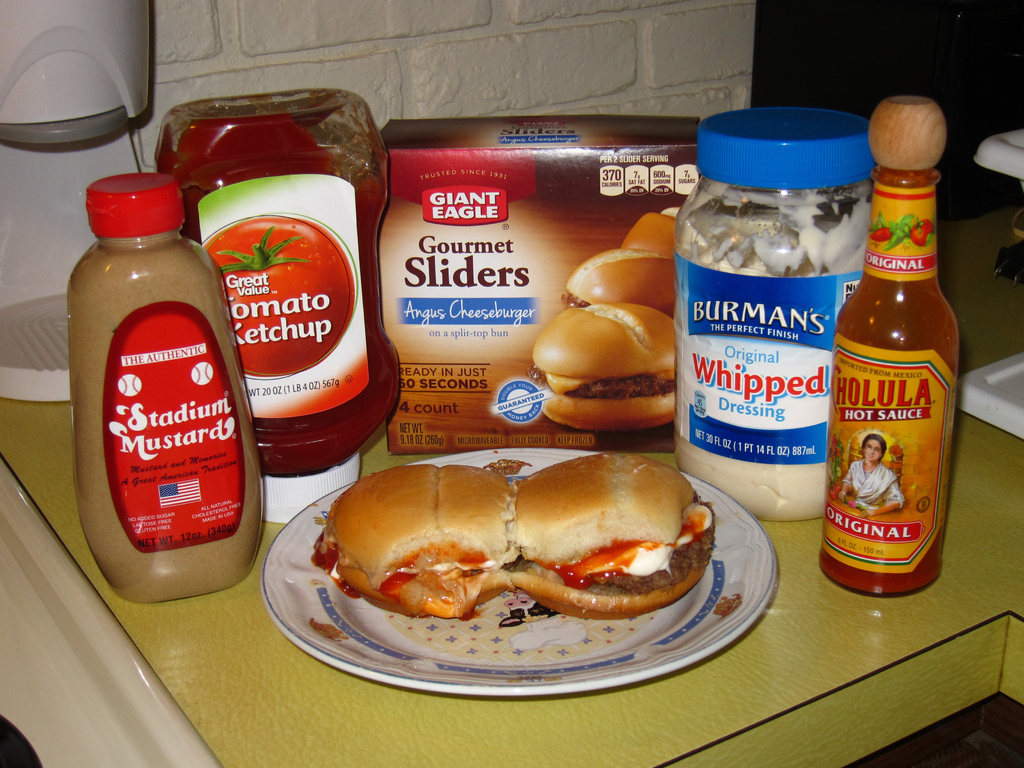Hamburger: (510, 451, 714, 621), (318, 465, 516, 617), (531, 303, 672, 436), (563, 247, 678, 314), (620, 207, 678, 256)
